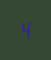four: (19, 19, 29, 40)
